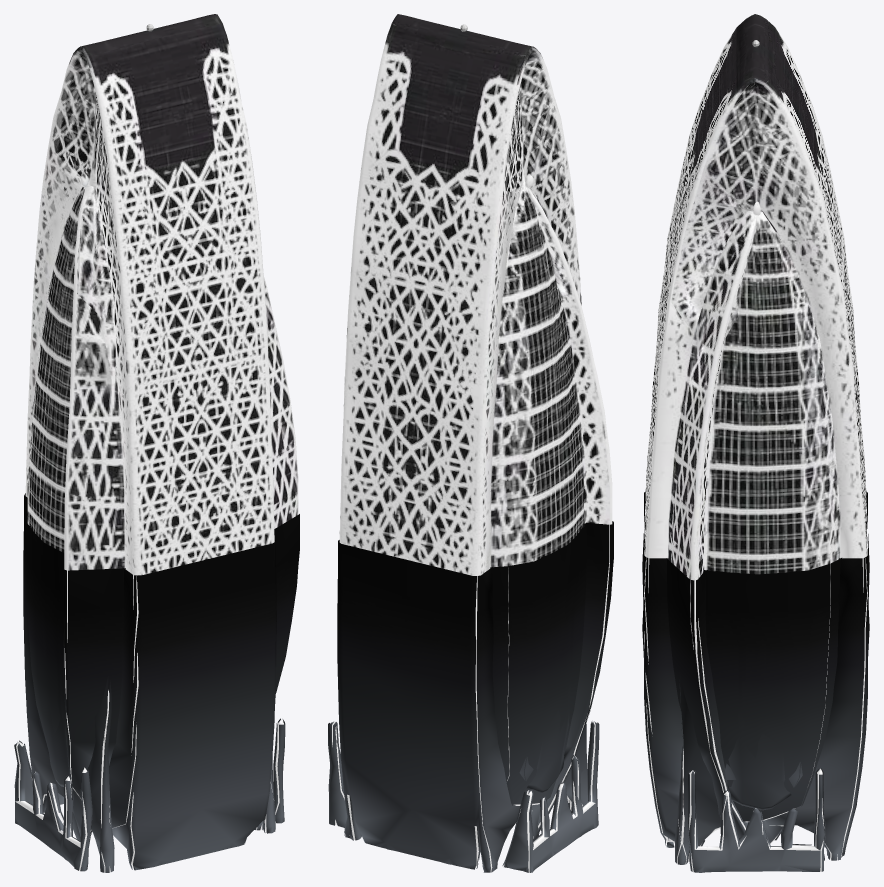
The model's file is cocoon.glb.
The picture shows the model from 3 angles, left to right: view 1: azimuth 30°, elevation 25°; view 2: azimuth 150°, elevation 25°; view 3: azimuth 270°, elevation 25°; orthographic projection.
Visible parts, largest first — view 1: Body, Accent; view 2: Body, Accent; view 3: Body, Accent.
Boxes of the visible parts, left/top/right/bottom form: Body: left=16, top=14, right=298, bottom=872; Accent: left=14, top=493, right=299, bottom=872; Body: left=332, top=14, right=612, bottom=872; Accent: left=328, top=521, right=613, bottom=872; Body: left=644, top=14, right=867, bottom=871; Accent: left=642, top=491, right=869, bottom=872.
Bounding box in the file's own units: 63.6 × 206 × 54.08.
Materials: 4 (2 with a texture image).
